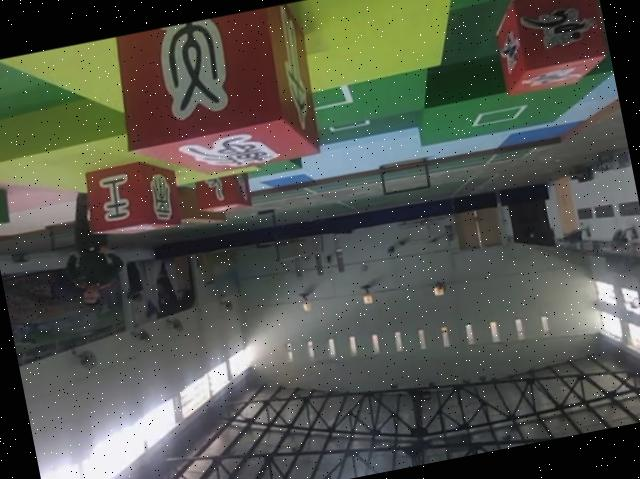R1: (481, 0, 614, 100)
R2 Fake: (107, 1, 325, 190), (82, 154, 186, 241)
R2 Real: (188, 164, 257, 218)
